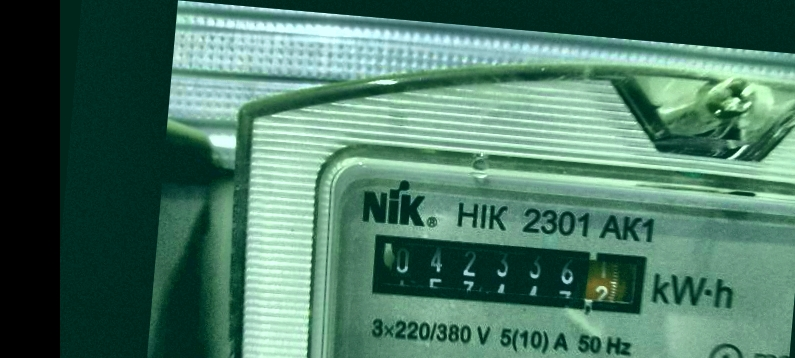0: (393, 245, 411, 274)
1: (596, 256, 610, 279)
2: (461, 247, 479, 277), (592, 282, 610, 301)
3: (525, 249, 543, 280), (493, 248, 510, 277)
4: (427, 243, 447, 273)
6: (559, 254, 578, 285)
screen: (359, 219, 660, 325)
